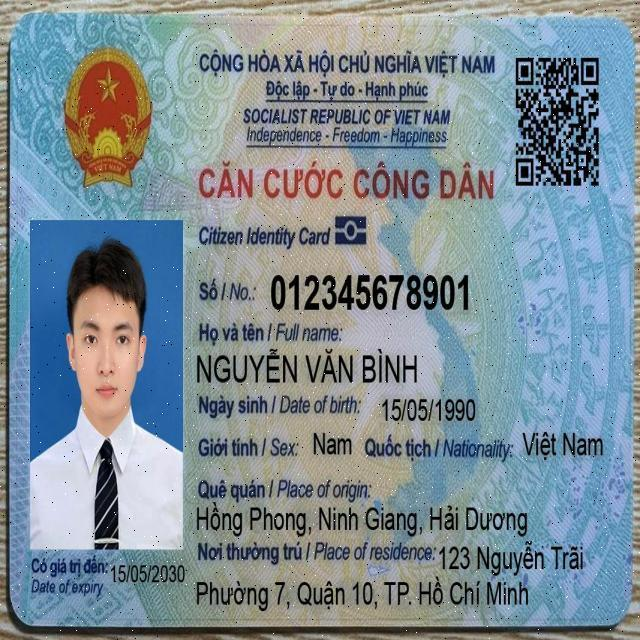current_place: (192, 572, 532, 615), (437, 536, 586, 579)
dob: (379, 393, 478, 427)
expire_date: (108, 556, 187, 589)
gender: (310, 426, 354, 462)
id: (267, 267, 473, 317)
name: (194, 343, 421, 389)
nationality: (519, 427, 606, 463)
origin_place: (193, 498, 530, 541)
